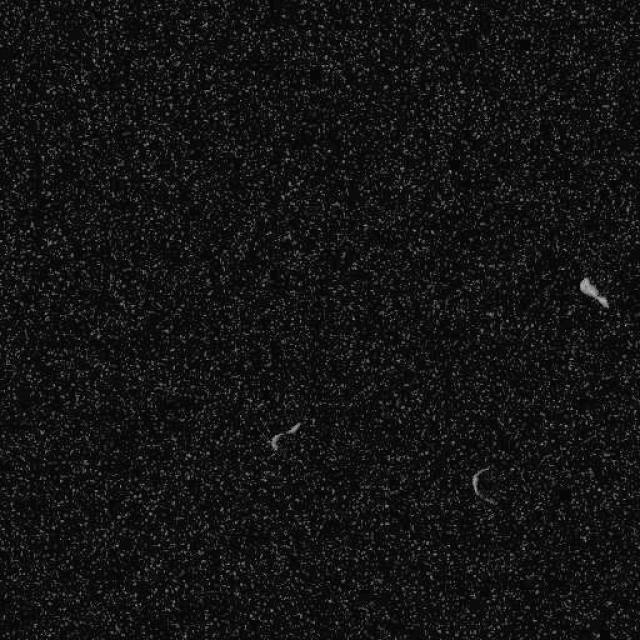D2: (470, 464, 499, 506), (268, 420, 302, 451), (578, 275, 608, 309)
